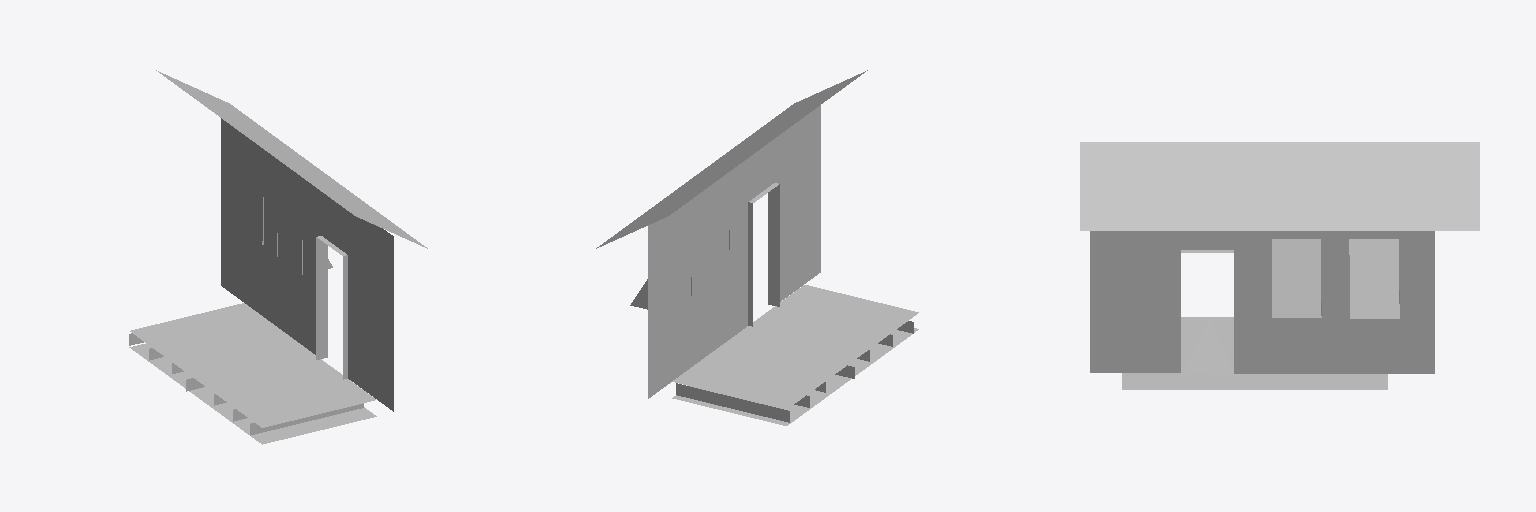
Rendered from front_door_noyard.obj.
The picture shows the model from 3 angles: view 1: azimuth 30°, elevation 25°; view 2: azimuth 150°, elevation 25°; view 3: azimuth 270°, elevation 25°; orthographic projection.
Visible parts, largest first — view 1: frontdoor.001_Cube.004; view 2: frontdoor.001_Cube.004; view 3: frontdoor.001_Cube.004.
Boxes of the visible parts, box(x1,y1,x2,y2) form: frontdoor.001_Cube.004: box(129, 70, 427, 444); frontdoor.001_Cube.004: box(596, 70, 918, 425); frontdoor.001_Cube.004: box(1080, 142, 1479, 389).
Size of the model in its own units: 2.71 by 3.76 by 6.01.